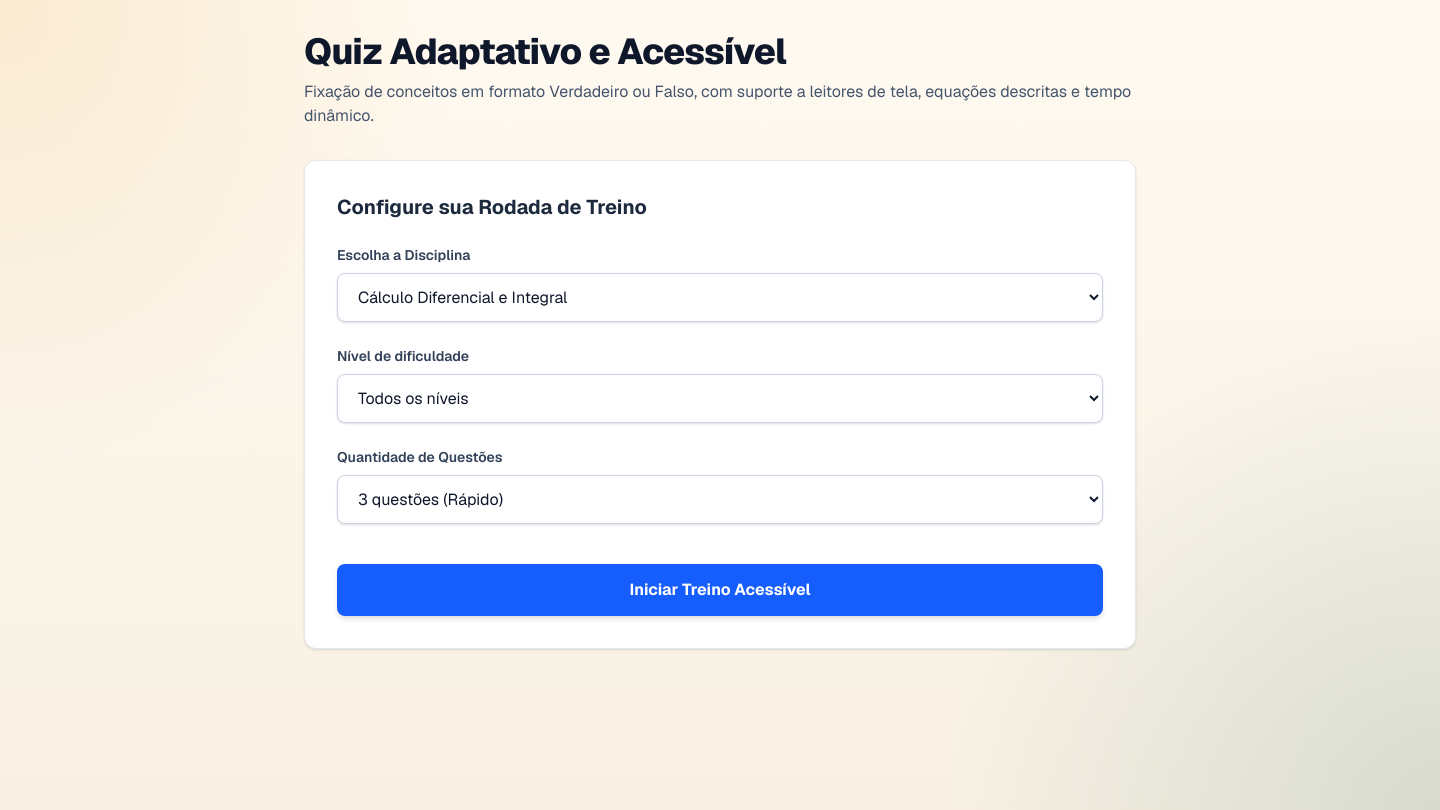
Test: ExerciciosPage level filter › keeps the setup open with the reason when the filter has no questions
This screenshot has width=1440, height=810.
Click the button "Iniciar Treino Acessível" at (720, 590), box [337,564,1103,616]
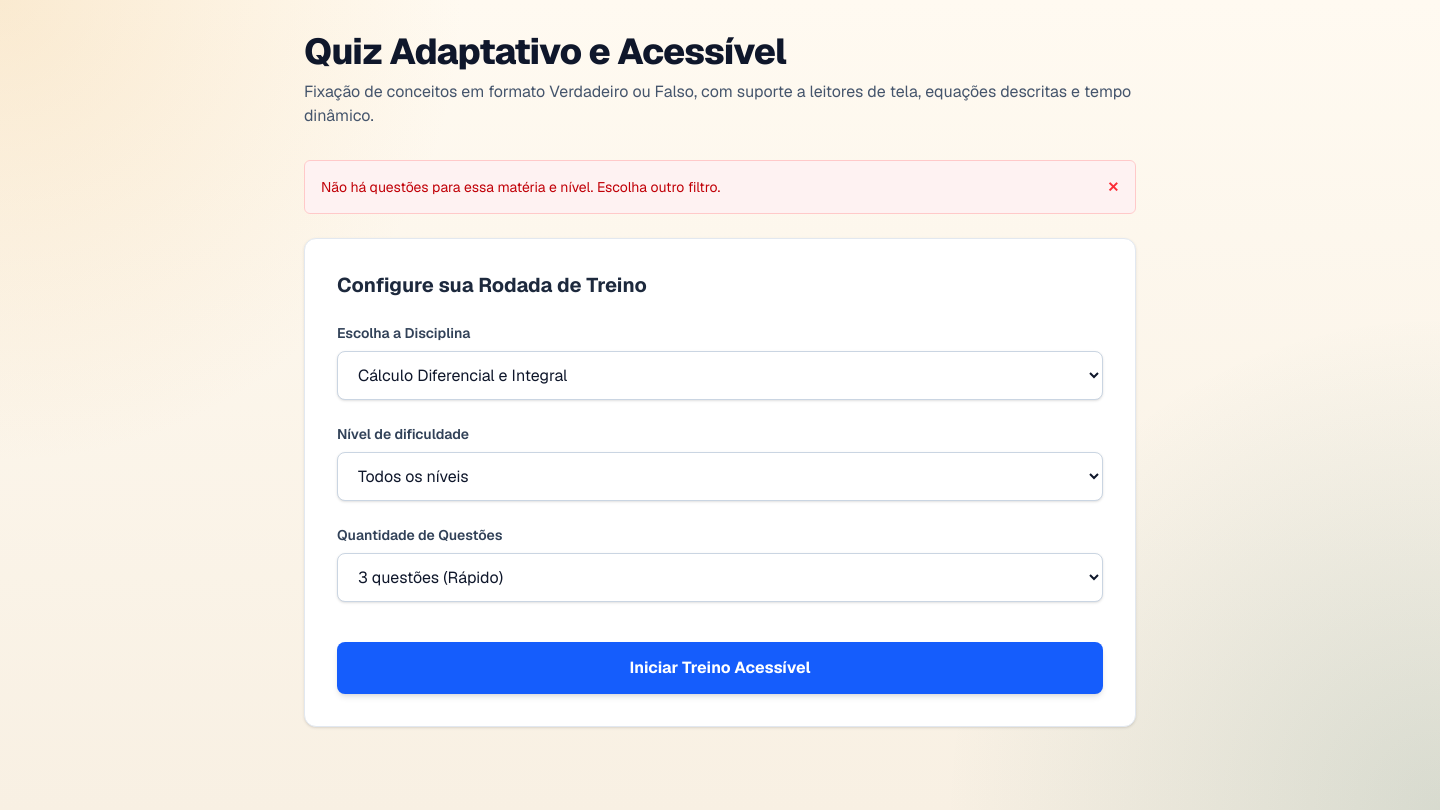
Expected: the dropdown labelled "Nível de dificuldade" is shown, [337,452,1103,501]
Now the message shows "Não há questões para essa matéria e nível.", box [321,178,720,196]
